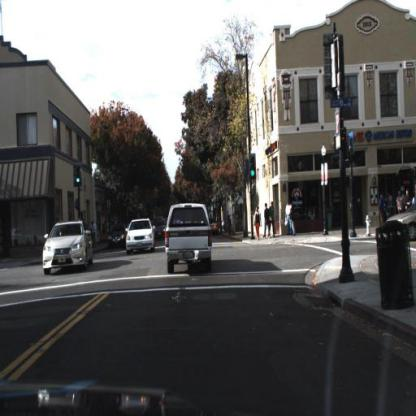car: (167, 201, 215, 274), (43, 220, 94, 275), (126, 217, 155, 256), (385, 207, 416, 237), (109, 227, 126, 250), (156, 222, 168, 240), (213, 215, 221, 235)
pedestrian: (378, 182, 389, 232), (262, 202, 272, 240), (395, 187, 406, 218), (253, 205, 262, 241), (269, 202, 278, 236), (286, 198, 293, 236), (263, 204, 270, 238), (291, 203, 296, 237), (91, 220, 99, 236)
trafficLight-Green: (249, 153, 257, 182), (75, 164, 84, 189), (74, 166, 84, 187)
